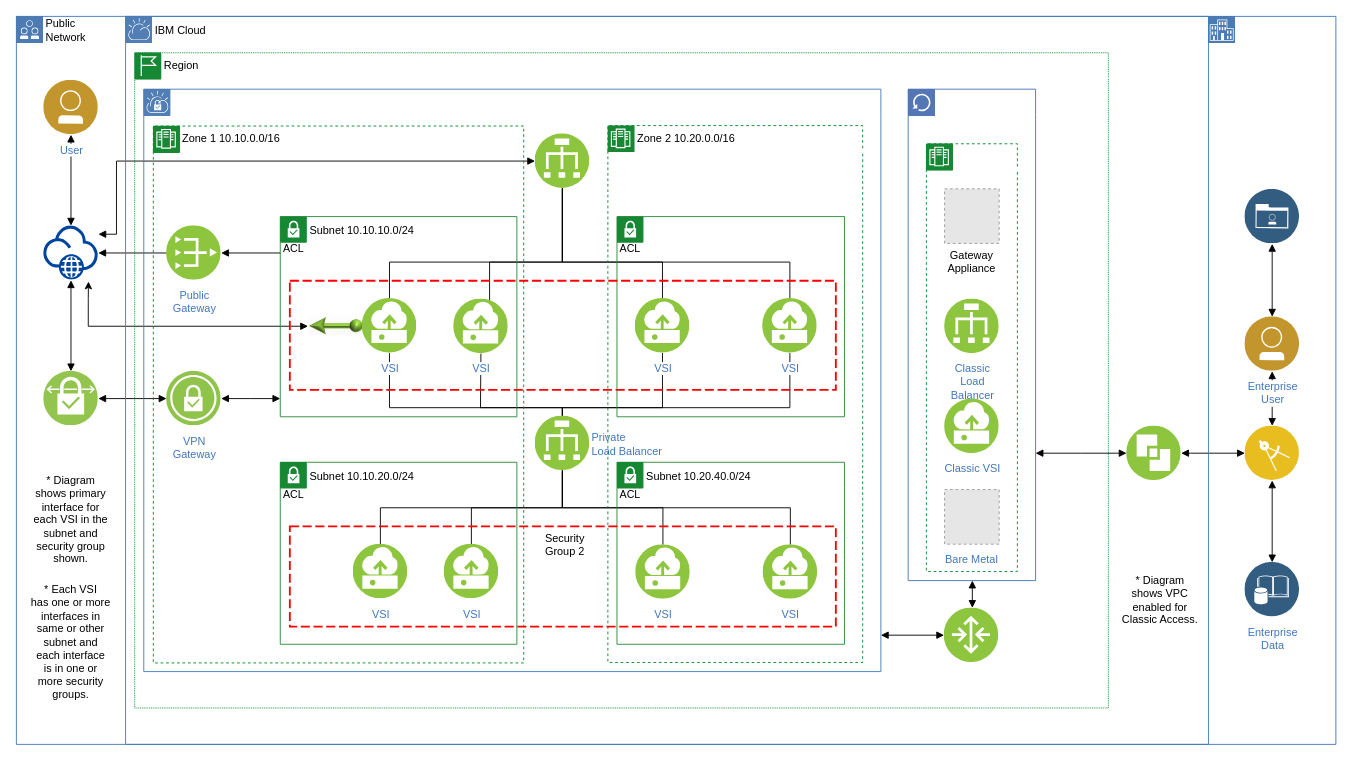
The diagram is 1351 pixels wide and 760 high, and some of its shapes have lost their labels. Grey dashed boxes stand in for pictures. Here are the shapes that lost their labels. From the top down, the box of each, then its label:
(1208, 16, 1235, 43): Enterprise Network
(535, 133, 589, 188): Public Load Balancer
(1244, 189, 1299, 243): Enterprise User Directory
(43, 225, 98, 280): Internet
(308, 298, 362, 353): Floating IP
(288, 279, 836, 390): Security Group 1
(616, 216, 844, 417): Subnet 10.20.30.0/24
(907, 88, 1036, 581): Classic Infrastructure
(925, 143, 1017, 571): Classic DC
(43, 371, 98, 425): VPN Connection
(143, 88, 881, 672): VPC
(1126, 425, 1181, 480): Direct Link
(1244, 425, 1299, 480): Enterprise Applications
(944, 607, 998, 662): Implicit Route
